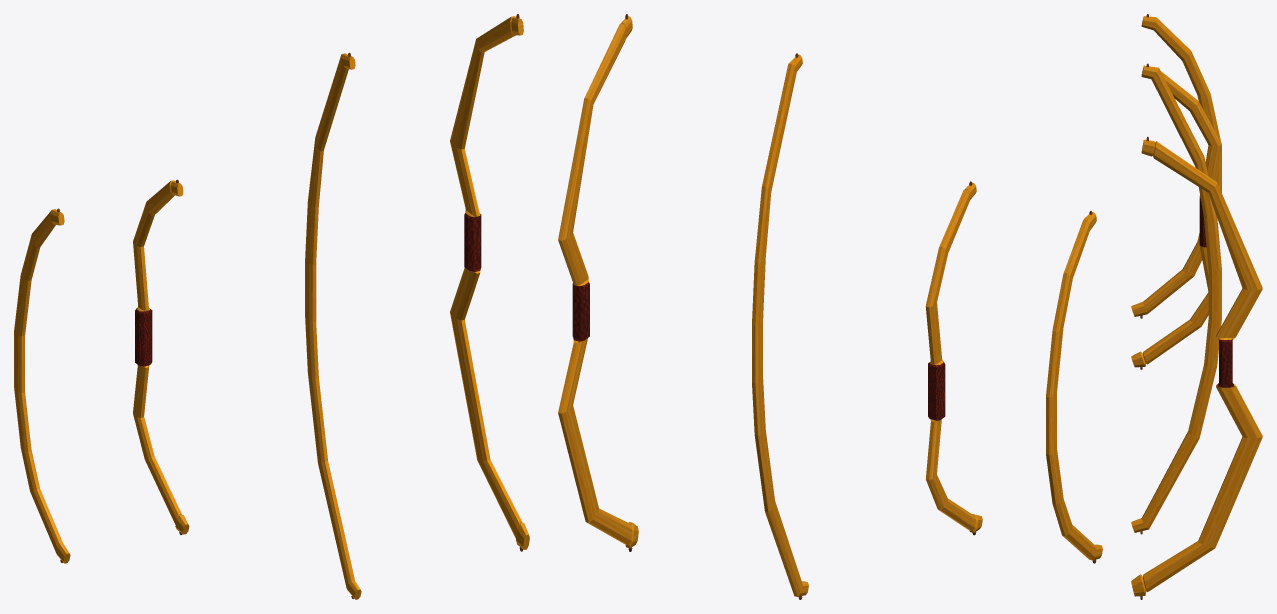
Rendered from nostringBow.fbx.
3 views of the same model, side by side, from view 1: azimuth 30°, elevation 25°; view 2: azimuth 150°, elevation 25°; view 3: azimuth 270°, elevation 25° (orthographic). The views are drawn at different scales.
Parts seen in each view (by area): view 1: BowLong2, BowLong1, BowShort2, BowShort1; view 2: BowLong2, BowLong1, BowShort2, BowShort1; view 3: BowLong2, BowLong1, BowShort2, BowShort1.
Boxes of the visible parts, box(x1,y1,x2,y2) form: BowLong2: box(450, 14, 529, 551); BowLong1: box(305, 52, 361, 599); BowShort2: box(133, 179, 189, 534); BowShort1: box(14, 208, 70, 563); BowLong2: box(558, 14, 638, 551); BowLong1: box(752, 53, 808, 599); BowShort2: box(925, 181, 982, 535); BowShort1: box(1046, 211, 1102, 563); BowLong2: box(1131, 136, 1262, 599); BowLong1: box(1131, 63, 1221, 534); BowShort2: box(1131, 71, 1221, 369); BowShort1: box(1131, 14, 1221, 318).
Size of the model in its own units: 706 by 781 by 198.
